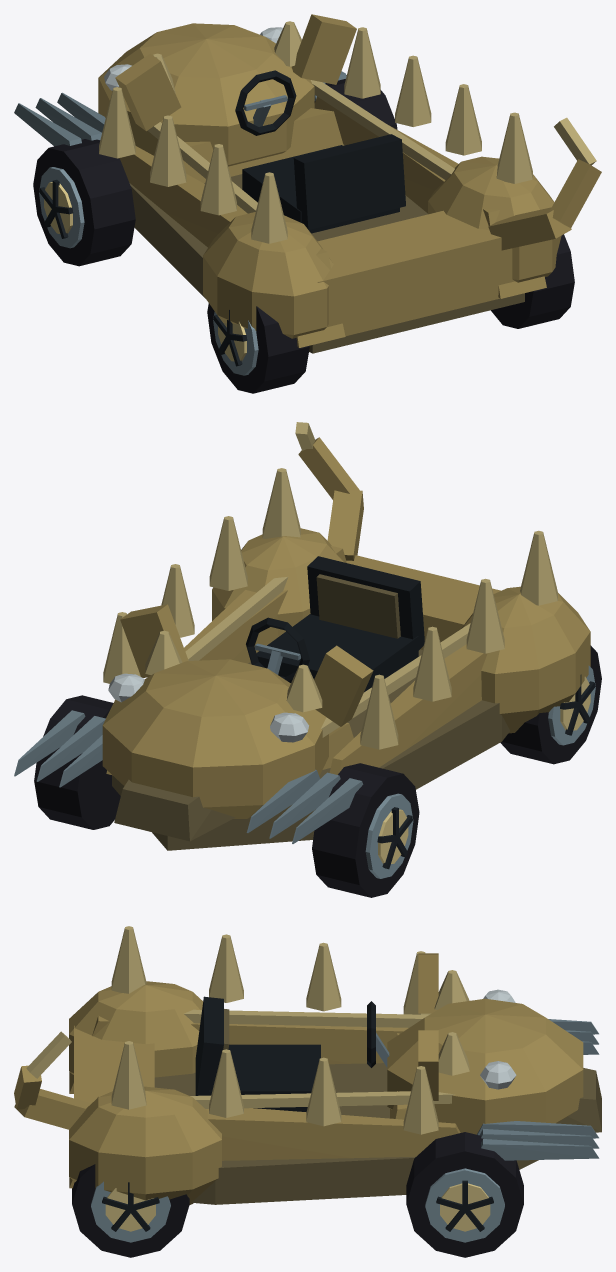
The model's file is kart.glb.
3 views of the same model, one above another, from view 1: azimuth 30°, elevation 25°; view 2: azimuth 150°, elevation 25°; view 3: azimuth 270°, elevation 25° (orthographic). The views are drawn at different scales.
Parts seen in each view (by area): view 1: identity-beast-beast-sculpted-prow-and-haunches, identity-beast-motif-spines, identity-beast-driver-cockpit, wheel-front-left, wheel-rear-left, identity-beast-motif-tail, wheel-rear-right, identity-beast-motif-claws, wheel-front-right; view 2: identity-beast-beast-sculpted-prow-and-haunches, identity-beast-motif-spines, identity-beast-driver-cockpit, wheel-front-left, identity-beast-motif-claws, wheel-front-right, wheel-rear-left, identity-beast-motif-tail; view 3: identity-beast-beast-sculpted-prow-and-haunches, identity-beast-motif-spines, wheel-front-right, identity-beast-driver-cockpit, wheel-rear-right, identity-beast-motif-claws, identity-beast-motif-tail.
Part boxes in pixels (bbox=[...]): identity-beast-beast-sculpted-prow-and-haunches: bbox=[98, 14, 561, 353]; identity-beast-motif-spines: bbox=[99, 27, 532, 243]; identity-beast-driver-cockpit: bbox=[235, 70, 405, 233]; wheel-front-left: bbox=[33, 139, 135, 266]; wheel-rear-left: bbox=[207, 303, 309, 393]; identity-beast-motif-tail: bbox=[488, 117, 601, 250]; wheel-rear-right: bbox=[491, 234, 574, 328]; identity-beast-motif-claws: bbox=[14, 71, 346, 146]; wheel-front-right: bbox=[314, 75, 397, 129]; identity-beast-beast-sculpted-prow-and-haunches: bbox=[102, 528, 590, 850]; identity-beast-motif-spines: bbox=[103, 468, 557, 749]; identity-beast-driver-cockpit: bbox=[246, 556, 424, 692]; wheel-front-left: bbox=[312, 763, 419, 897]; identity-beast-motif-claws: bbox=[14, 710, 363, 843]; wheel-front-right: bbox=[34, 695, 120, 829]; wheel-rear-left: bbox=[500, 645, 601, 764]; identity-beast-motif-tail: bbox=[295, 422, 363, 560]; identity-beast-beast-sculpted-prow-and-haunches: bbox=[69, 953, 601, 1205]; identity-beast-motif-spines: bbox=[111, 926, 438, 1134]; wheel-front-right: bbox=[406, 1132, 523, 1257]; identity-beast-driver-cockpit: bbox=[195, 996, 389, 1112]; wheel-rear-right: bbox=[72, 1164, 189, 1257]; identity-beast-motif-claws: bbox=[477, 1019, 599, 1160]; identity-beast-motif-tail: bbox=[14, 1031, 90, 1129].
Size of the model in its own units: 2.01 by 1.3 by 3.2.
